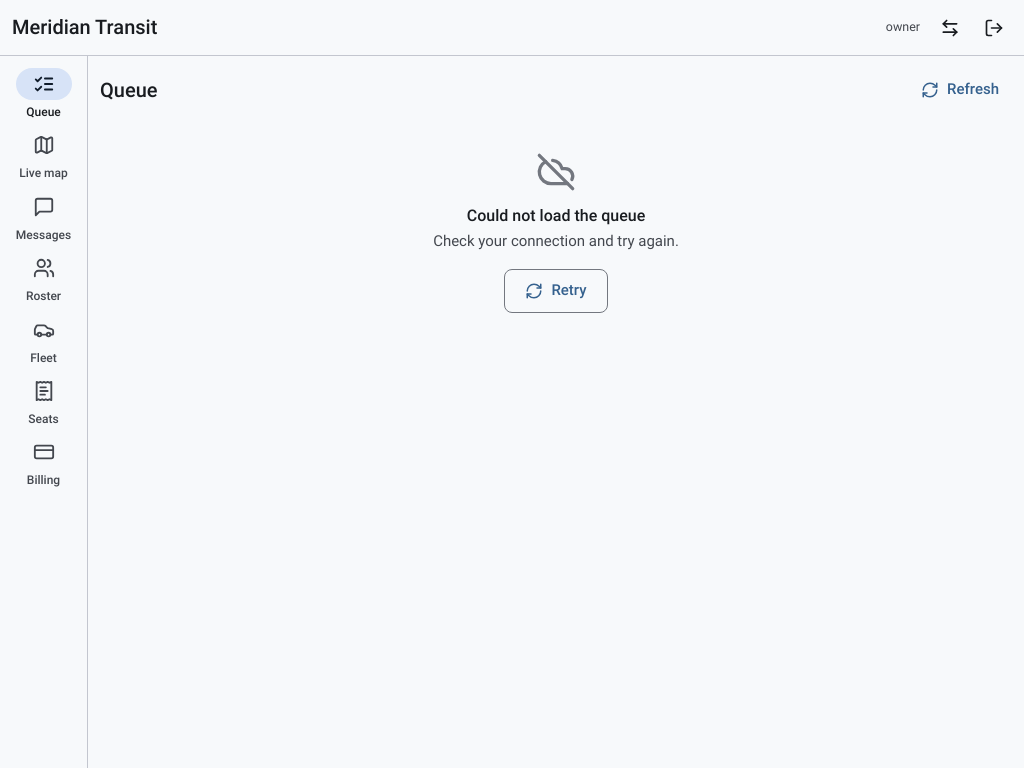
it: the queue › a failure offers a retry rather than a stack trace
Check: the heading "Could not load the queue" is shown, box top-left (467, 204), bottom-right (645, 227)
What coordinates should you click on to do the following:
click the button "Retry"
I would click on:
 (556, 291)
Its box is top-left (504, 269), bottom-right (608, 313).
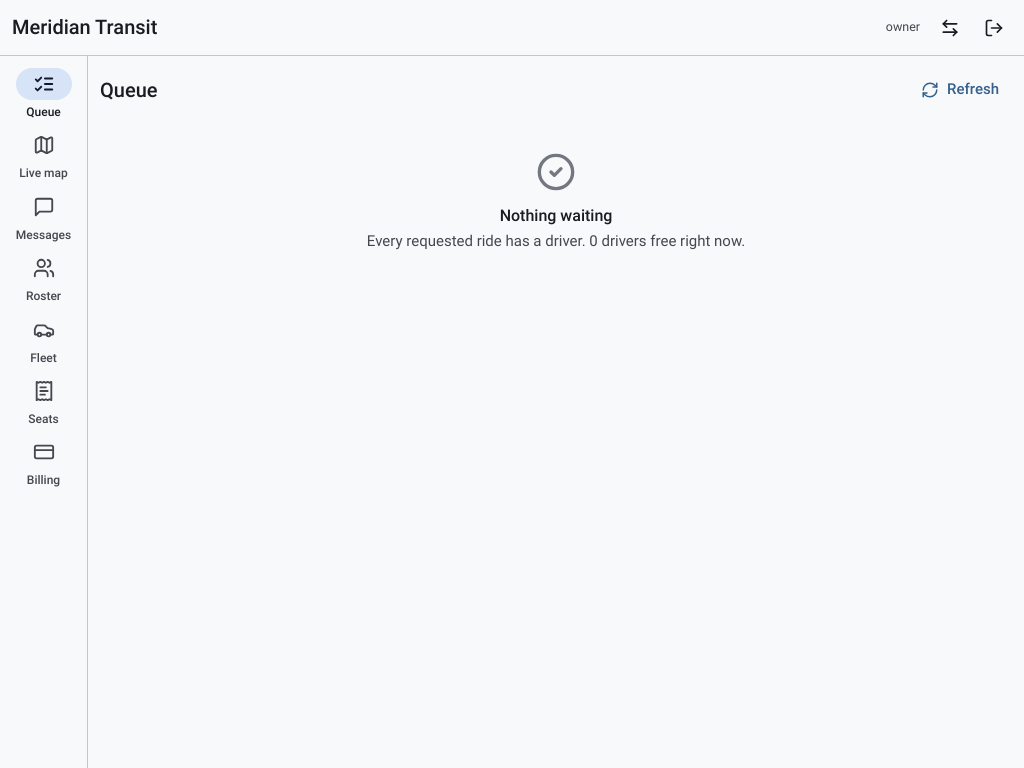
Check: the heading "Nothing waiting" is shown, box top-left (500, 204), bottom-right (612, 227)
